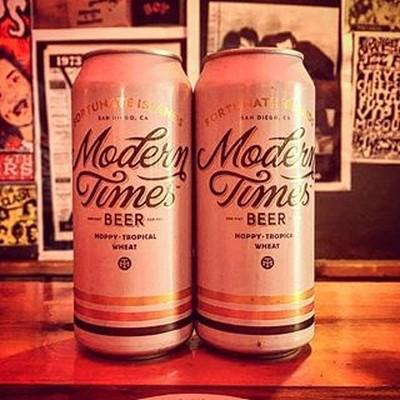beer: (71, 48, 318, 365)
